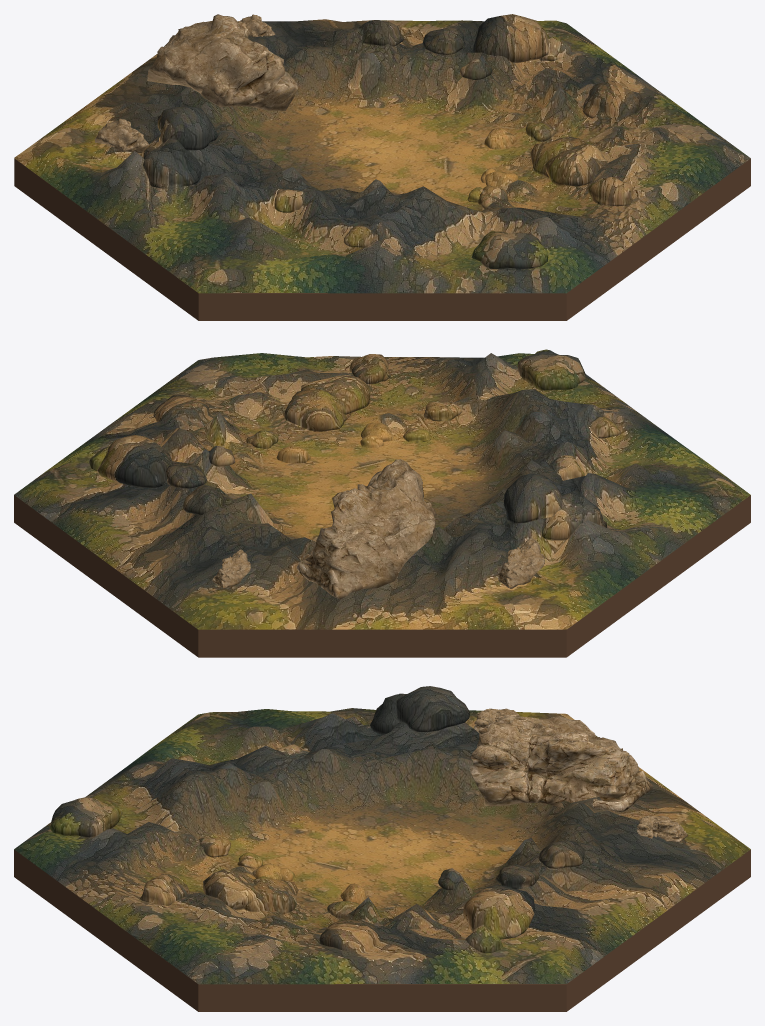
Rendered from hex_piedra_v2.glb.
3 views of the same model, one above another, from view 1: azimuth 30°, elevation 25°; view 2: azimuth 150°, elevation 25°; view 3: azimuth 270°, elevation 25° (orthographic).
Parts seen in each view (by area): view 1: Quarry, Side, Boulder_00, Boulder_01; view 2: Quarry, Side, Boulder_00, Boulder_01, Boulder_02; view 3: Quarry, Side, Boulder_00, Boulder_02, Boulder_01.
Part boxes in pixels (x1,y1,x2,y2): Quarry: [14, 14, 750, 293]; Side: [14, 158, 750, 320]; Boulder_00: [147, 14, 297, 110]; Boulder_01: [94, 118, 148, 153]; Quarry: [14, 349, 750, 629]; Side: [14, 495, 750, 657]; Boulder_00: [296, 459, 436, 599]; Boulder_01: [497, 538, 544, 588]; Boulder_02: [212, 549, 250, 588]; Quarry: [14, 686, 750, 984]; Side: [14, 849, 750, 1011]; Boulder_00: [469, 716, 653, 812]; Boulder_02: [636, 815, 687, 842]; Boulder_01: [474, 708, 521, 732].
Size of the model in its own units: 1.73 by 0.3598 by 2.
3 materials, 2 textured.
